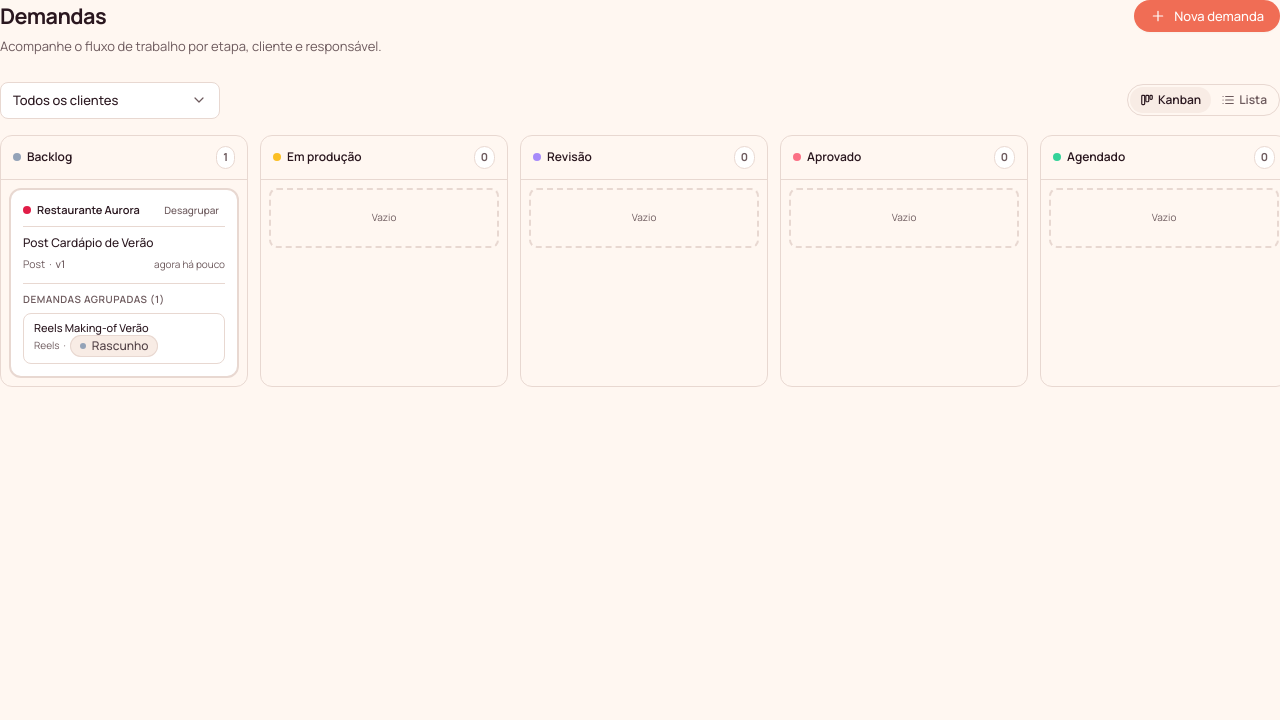
Test case: Jobs Feature — B4 Metadata Editing + Ungroup Wiring › rich client filter › selecting a client from the sheet filters and shows selection
This screenshot has width=1280, height=720.
Click the button "Todos os clientes".
click(110, 100)  # box [0,82,220,119]
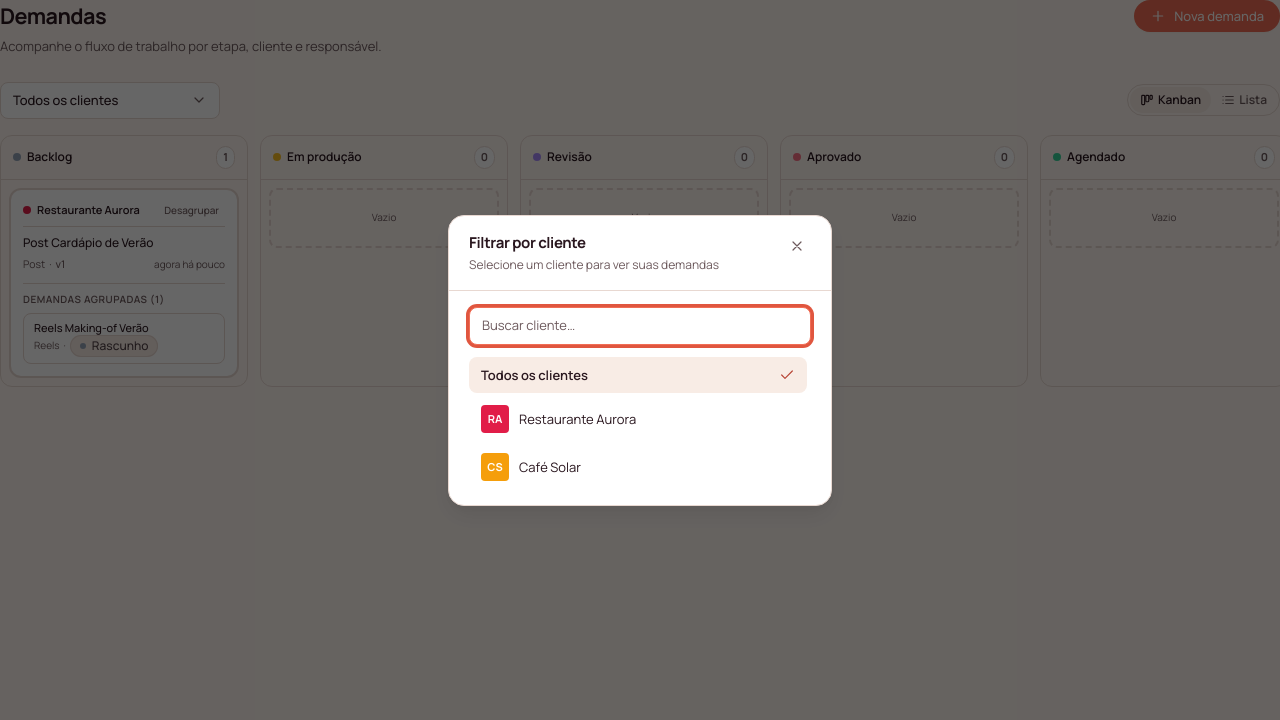
Result: the field labelled "Buscar cliente" is shown at [469,307,811,344]
Click the text "Café Solar".
click(550, 466)  # box [519,458,581,476]
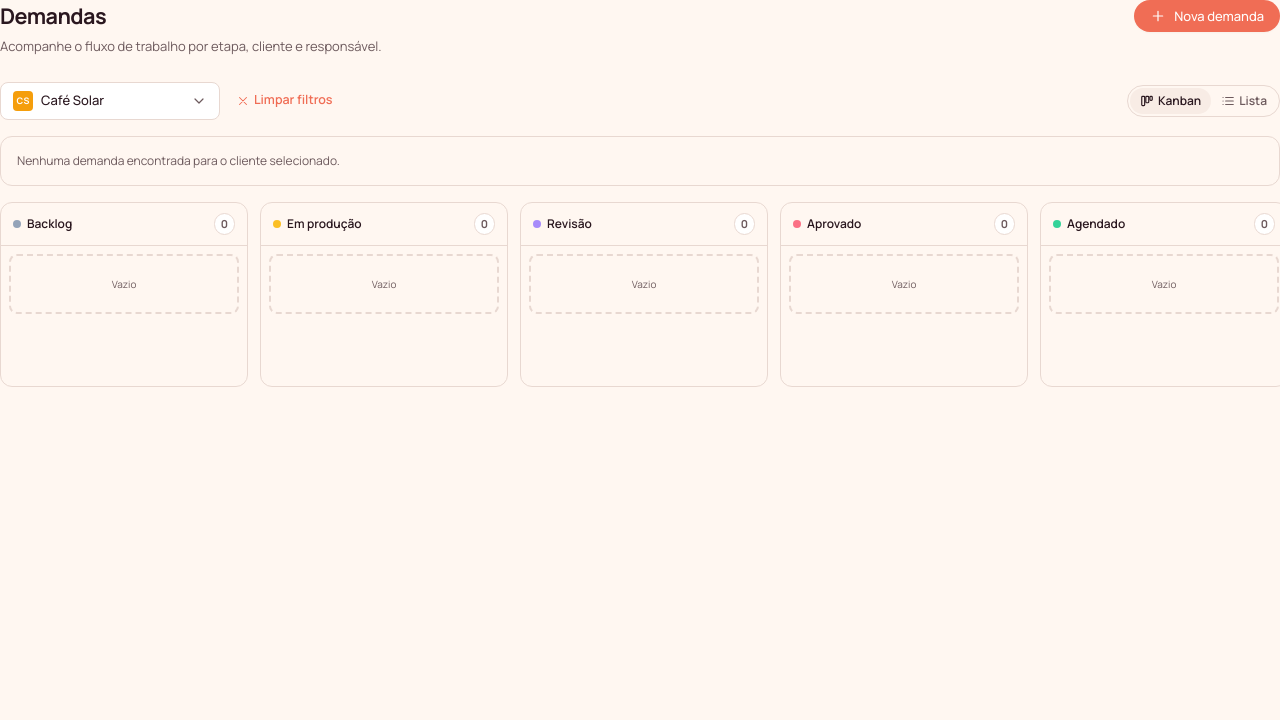
Result: the button "CS Café Solar" is shown at [0,82,220,120]
